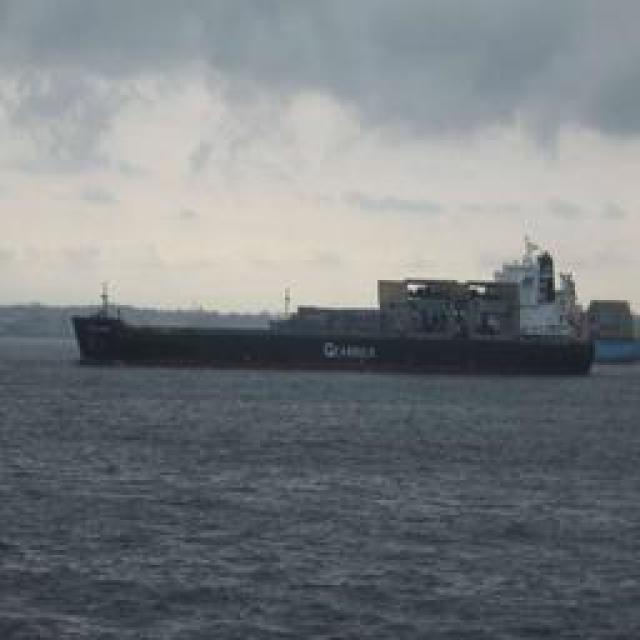Ship: (81, 250, 609, 375)
